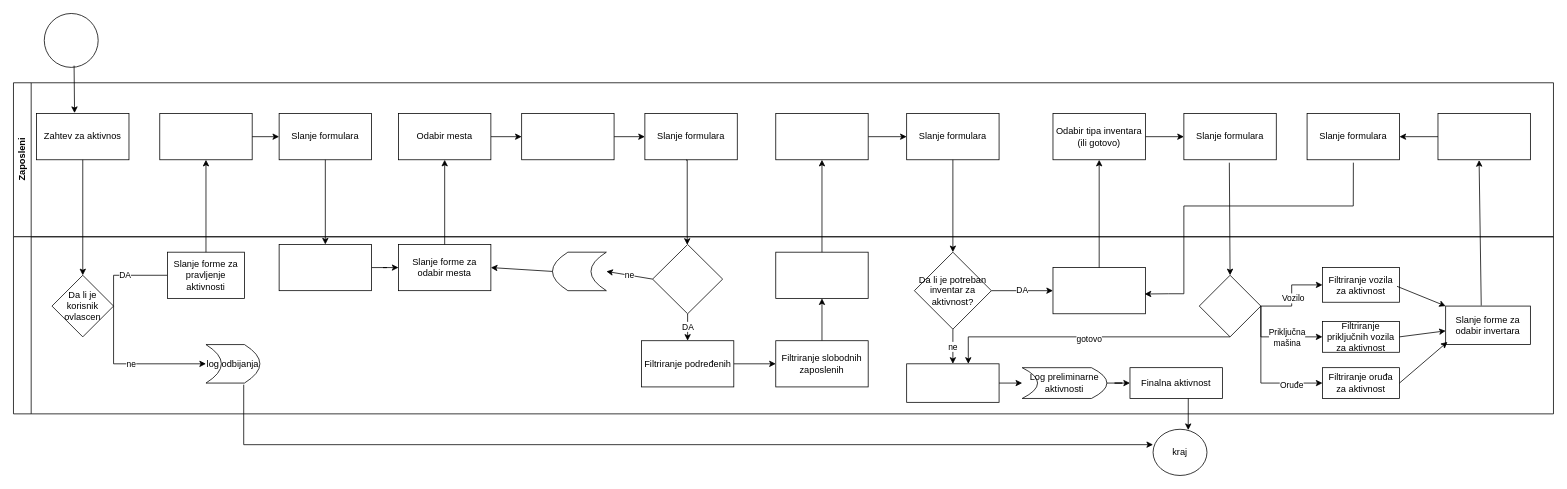
This 1567x489 diagram has some shape labels left out. The box of each missing label's shape, as (x1, y1, x2, y2) in pixels:
Biranje tipa aktivnosti: (159, 113, 252, 160)
Filtriranje mogucih mesta za odabranu aktivnost: (278, 244, 372, 291)
Log nedostupnosti: (552, 251, 606, 291)
Odabir invertara: (1437, 113, 1530, 160)
Odabir vremena: (521, 113, 614, 160)
Odabir zaposlenog: (775, 113, 868, 160)
Preliminarna aktivnost: (906, 363, 999, 402)
Provera dostupnosti aktivnosti mesta i vremena: (652, 244, 723, 314)
Servis: (13, 236, 1553, 414)
Slanje forme za odabir tipa inventara: (1052, 267, 1145, 314)
Slanje forme za odabir zaposlenog: (775, 251, 868, 298)
Tip inventara (ili gotovo): (1199, 275, 1261, 337)
